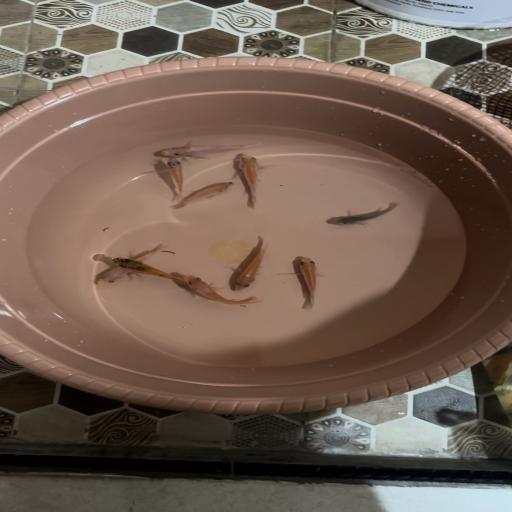nila: (85, 240, 167, 292), (108, 254, 210, 294), (154, 130, 274, 159), (174, 272, 260, 308), (328, 198, 408, 234), (283, 256, 334, 312), (230, 152, 276, 212), (227, 235, 271, 292), (177, 176, 239, 216), (152, 157, 200, 197)
